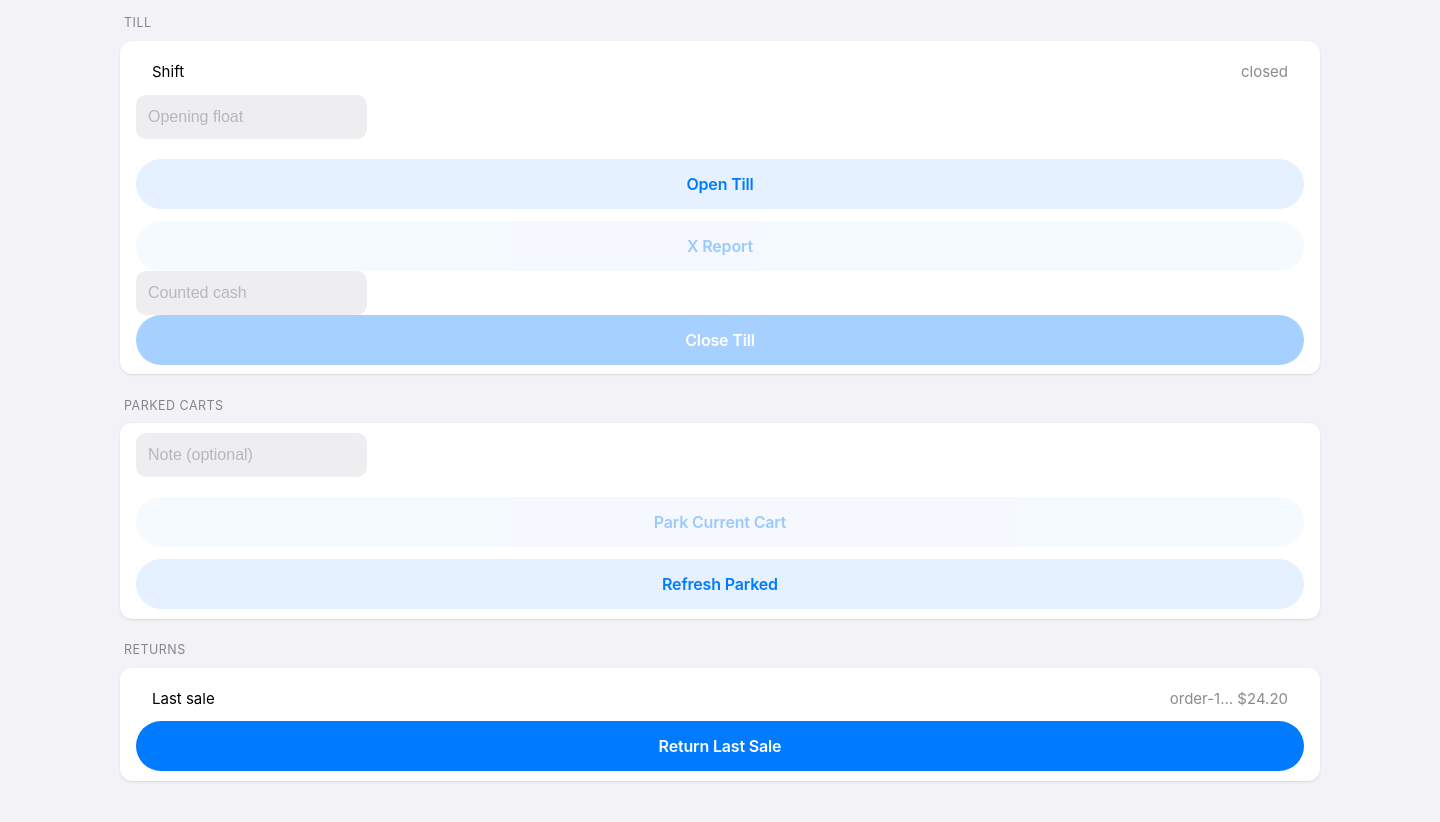
it: StoreOpsPanel returns › stops at the first failed step and says which one
Click the button "Return Last Sale" at (720, 746), box x1=136 y1=721 x2=1304 y2=771
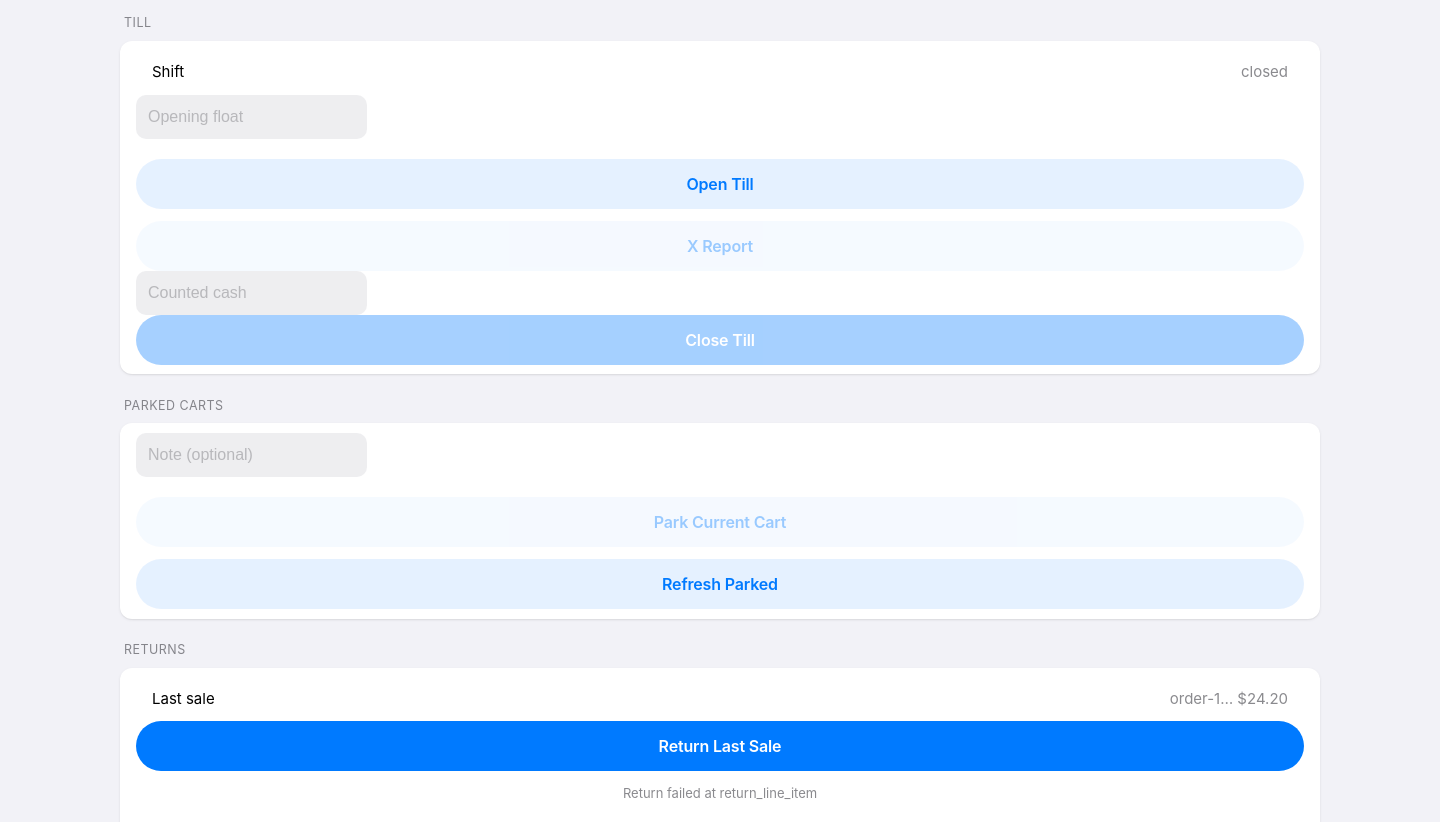
Result: the text "Return failed at return_line_item" is shown at x1=623 y1=785 x2=817 y2=801
